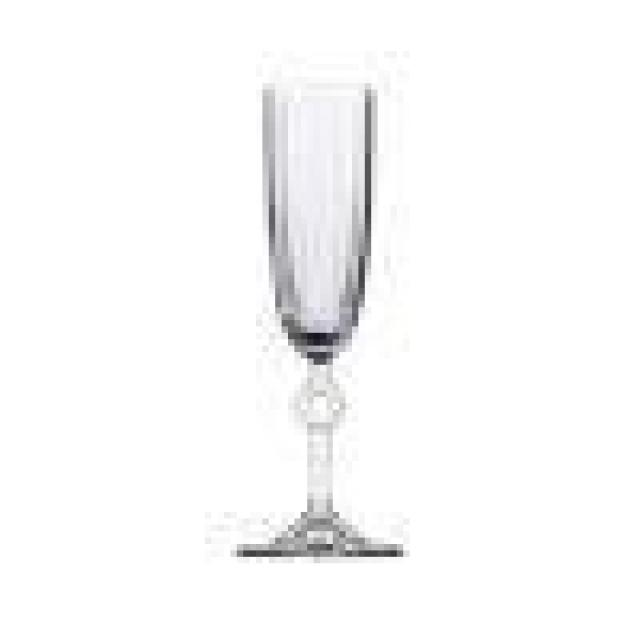non-organic waste: (230, 77, 404, 563)
